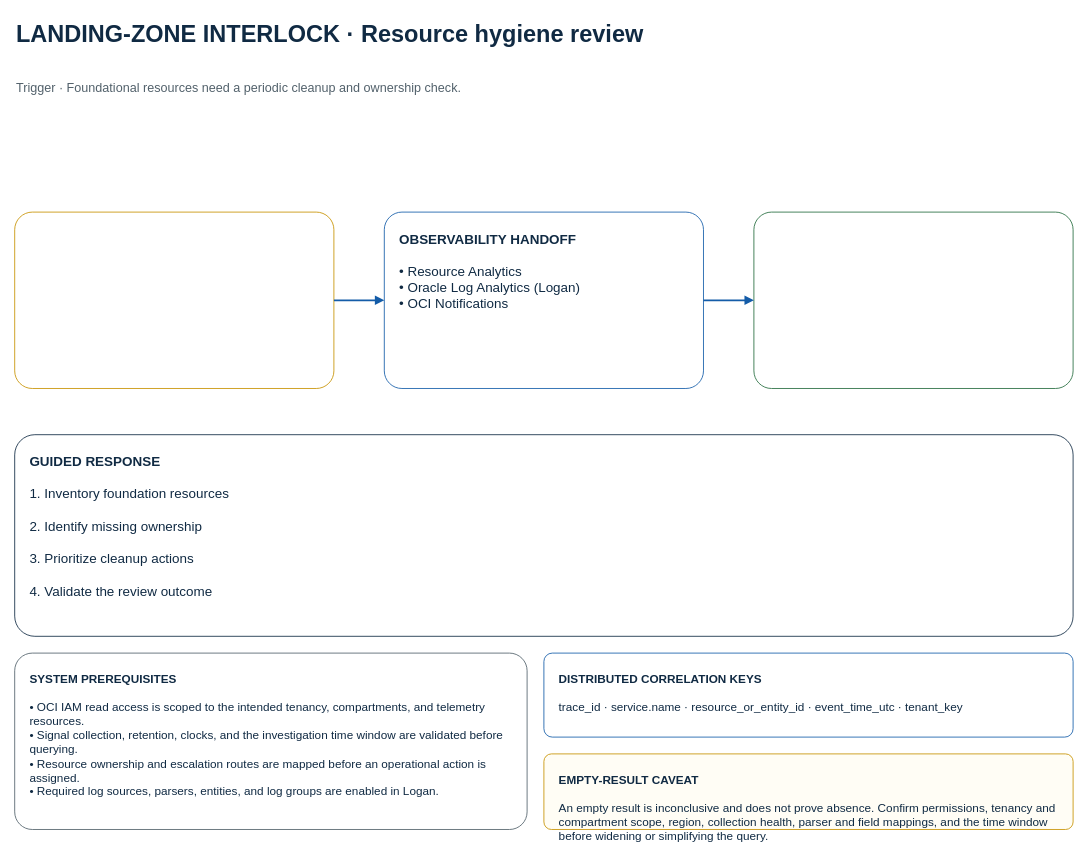
This 1088x858 diagram has some shape labels left out. Here are the shapes that lost their labels. From the top down, the box of each, then its label:
(14, 211, 334, 388): SOURCE EVIDENCE • Resource inventory • Tagging records • Activity evidence
(753, 211, 1073, 388): OPERATIONAL OUTCOME • Reduce unowned resources and operational ambiguity.
